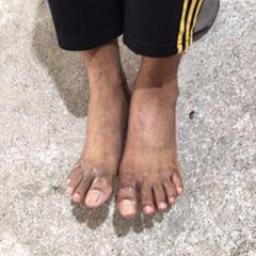Dorsal View -Both Feet-: (54, 47, 196, 229)
